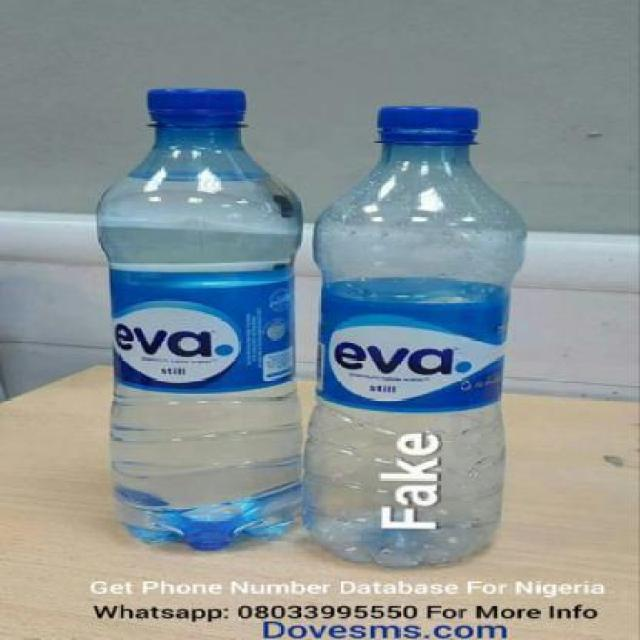bottle: (309, 93, 530, 568), (93, 88, 310, 554)
